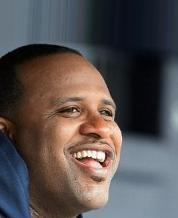face: (58, 97, 120, 178)
